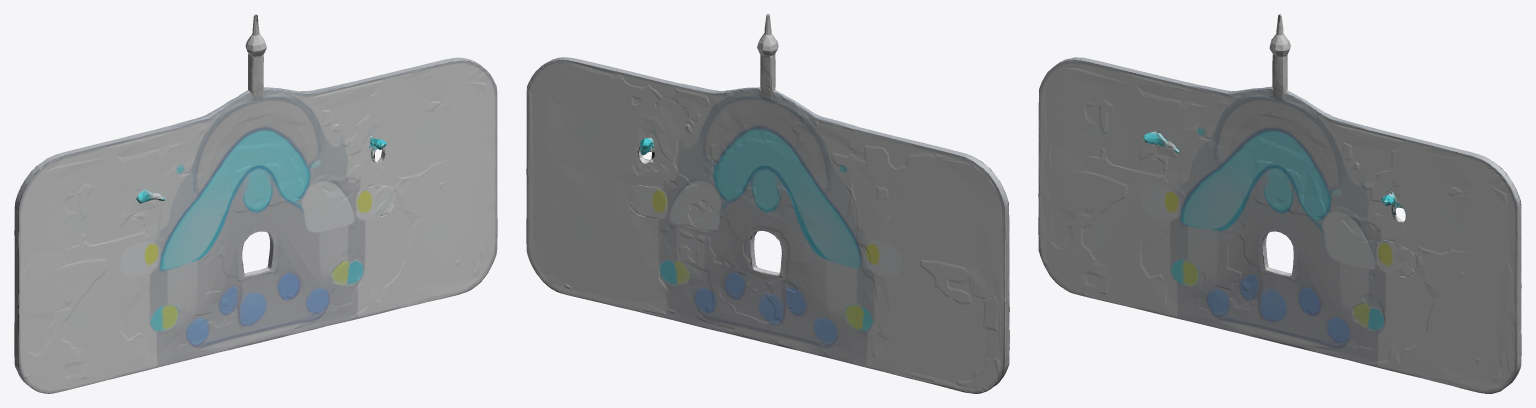
Rendered from ui_worldmap_next_country_tease.glb.
3 renders of one model, left to right at view 1: azimuth 30°, elevation 25°; view 2: azimuth 150°, elevation 25°; view 3: azimuth 330°, elevation 25°, orthographic.
Visible parts, largest first — view 1: world; view 2: world; view 3: world.
Part boxes in pixels (x1,y1,x2,y2): world: (14, 14, 497, 393); world: (526, 14, 1009, 393); world: (1038, 14, 1521, 393).
Bounding box in the file's own units: 1 × 0.6559 × 0.0807.
1 material, 1 textured.
